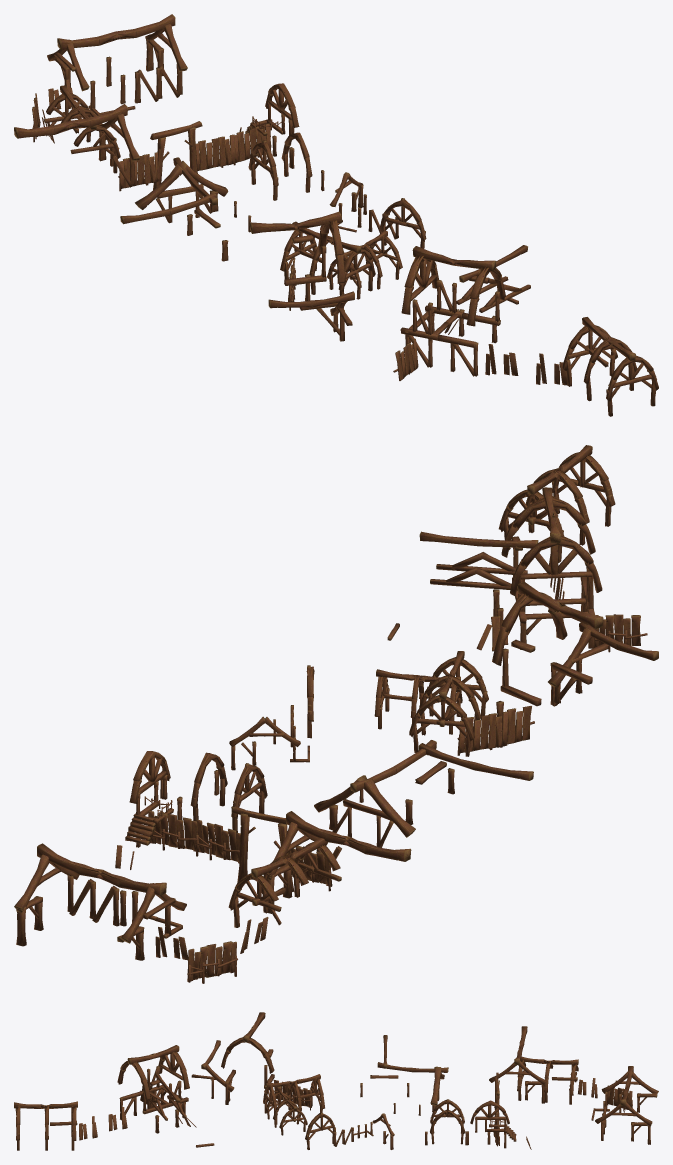
File: WoodBlock2.FBX
3 renders of one model, top to bottom at view 1: azimuth 30°, elevation 25°; view 2: azimuth 150°, elevation 25°; view 3: azimuth 270°, elevation 25°, orthographic. The views are drawn at different scales.
Visible parts, largest first — view 1: Object4552; view 2: Object4552; view 3: Object4552.
Part boxes in pixels (x1=…): Object4552: x1=14, y1=14, x2=658, y2=416; Object4552: x1=14, y1=445, x2=658, y2=983; Object4552: x1=14, y1=1012, x2=658, y2=1150.
Size of the model in its own units: 2819 by 1250 by 9012.
